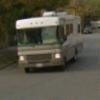buses: (14, 16, 83, 72)
